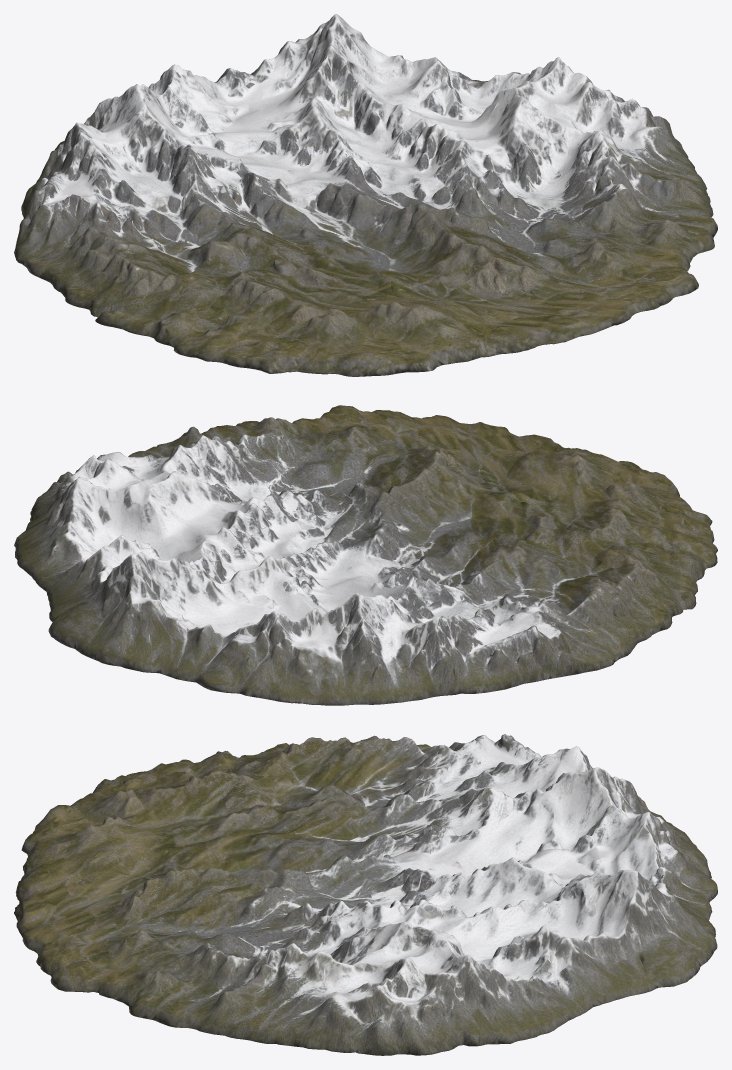
Rendered from himalaya.glb.
3 renders of one model, top to bottom at view 1: azimuth 30°, elevation 25°; view 2: azimuth 150°, elevation 25°; view 3: azimuth 270°, elevation 25°, orthographic. The views are drawn at different scales.
Parts seen in each view (by area): view 1: himalaya; view 2: himalaya; view 3: himalaya.
Boxes of the visible parts, box(x1,y1,x2,y2) form: himalaya: box(14, 14, 717, 376); himalaya: box(14, 405, 717, 705); himalaya: box(14, 734, 717, 1055).
Size of the model in its own units: 208 by 26 by 202.
1 material, 1 textured.
